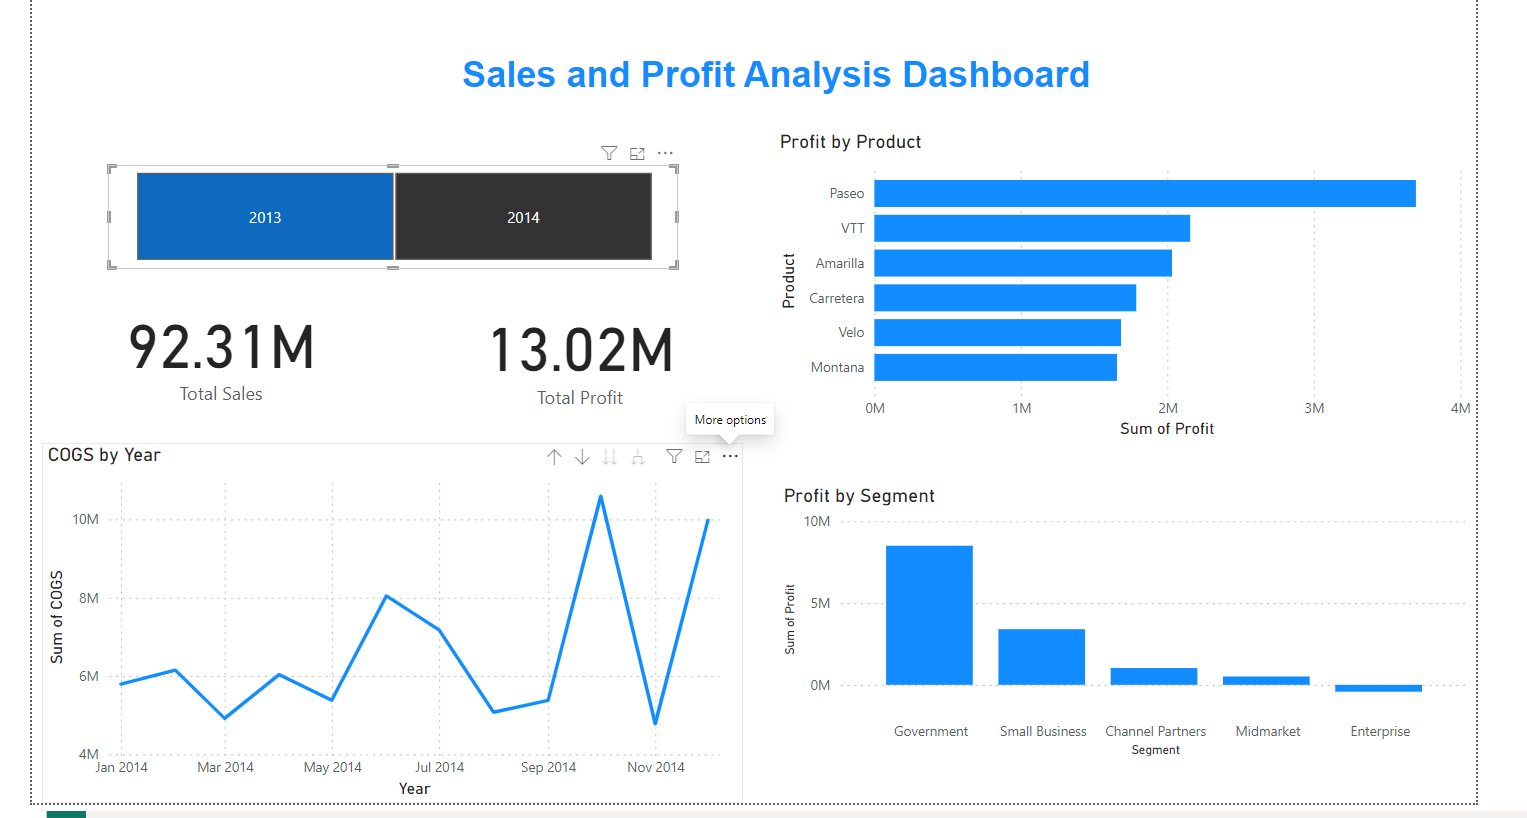

What the dashboard file says about the page in this screenshot:
{"tool":"powerbi","page":{"name":"q1","canvas":[1280,720],"ordinal":0},"visuals":[{"type":"textbox","box":[39.6,582,379.1,43.9],"z":2000},{"type":"textbox","box":[39.9,34,1240.1,120.6],"z":2001},{"type":"lineChart","title":"COGS by Year","fields":{"Y":["Sum(financials.COGS)"],"Category":["financials.Date.Variation.Date Hierarchy.Year","financials.Date.Variation.Date Hierarchy.Quarter","financials.Date.Variation.Date Hierarchy.Month"]},"box":[8.8,400.7,621.5,319],"z":2002},{"type":"barChart","title":" Profit by Product","fields":{"Category":["financials.Product"],"Y":["Sum(financials.Profit)"]},"box":[657.9,123.3,622.5,277.5],"z":2003},{"type":"lineClusteredColumnComboChart","title":"Profit by Segment","fields":{"Category":["financials.Segment"],"Y":["Sum(financials.Profit)"]},"box":[661.4,436.7,618.6,246.1],"z":2004},{"type":"card","title":"Total Sales","fields":{"Values":["Sum(financials. Sales)"]},"box":[27.2,261.6,280.1,113.8],"z":2005},{"type":"card","fields":{"Values":["Sum(financials.Profit)"]},"box":[331.7,262.6,308.3,117.7],"z":2006},{"type":"slicer","fields":{"Values":["financials.Year"]},"box":[67.1,154.7,505.8,91.4],"z":2007}]}

Visuals, with their boxes on the page's 1280x720 design canvas (x1, y1, x2, y2). These are canvas units, not pixel positions in the 1527x818 screenshot, which may show the page scaled, cropped or inside an application window:
textbox: rect(40, 582, 419, 626)
textbox: rect(40, 34, 1280, 155)
"COGS by Year" lineChart: rect(9, 401, 630, 720)
" Profit by Product" barChart: rect(658, 123, 1280, 401)
"Profit by Segment" lineClusteredColumnComboChart: rect(661, 437, 1280, 683)
"Total Sales" card: rect(27, 262, 307, 375)
card - Sum(financials.Profit): rect(332, 263, 640, 380)
slicer - financials.Year: rect(67, 155, 573, 246)
